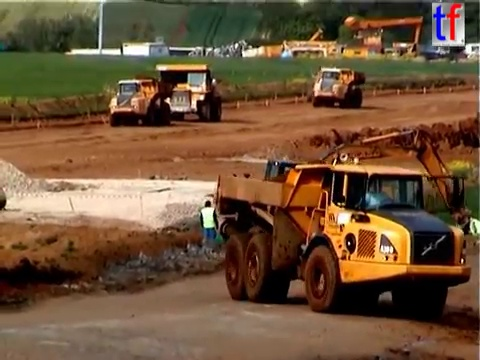crane: (341, 12, 425, 59)
excavator: (233, 124, 480, 260)
motor grader: (305, 64, 347, 104)
truck: (212, 155, 474, 322), (150, 62, 224, 124), (106, 74, 171, 129), (310, 66, 367, 110)
worker: (197, 198, 220, 251), (461, 210, 480, 250)
